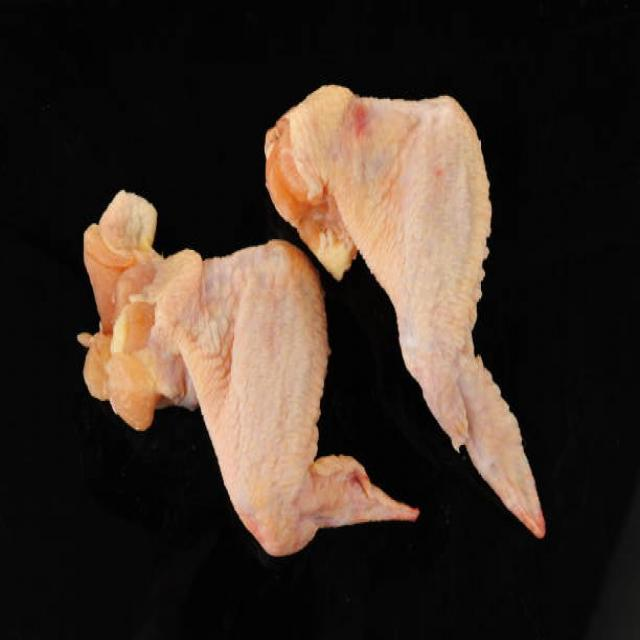chicken: (67, 239, 398, 553), (343, 83, 562, 533)
